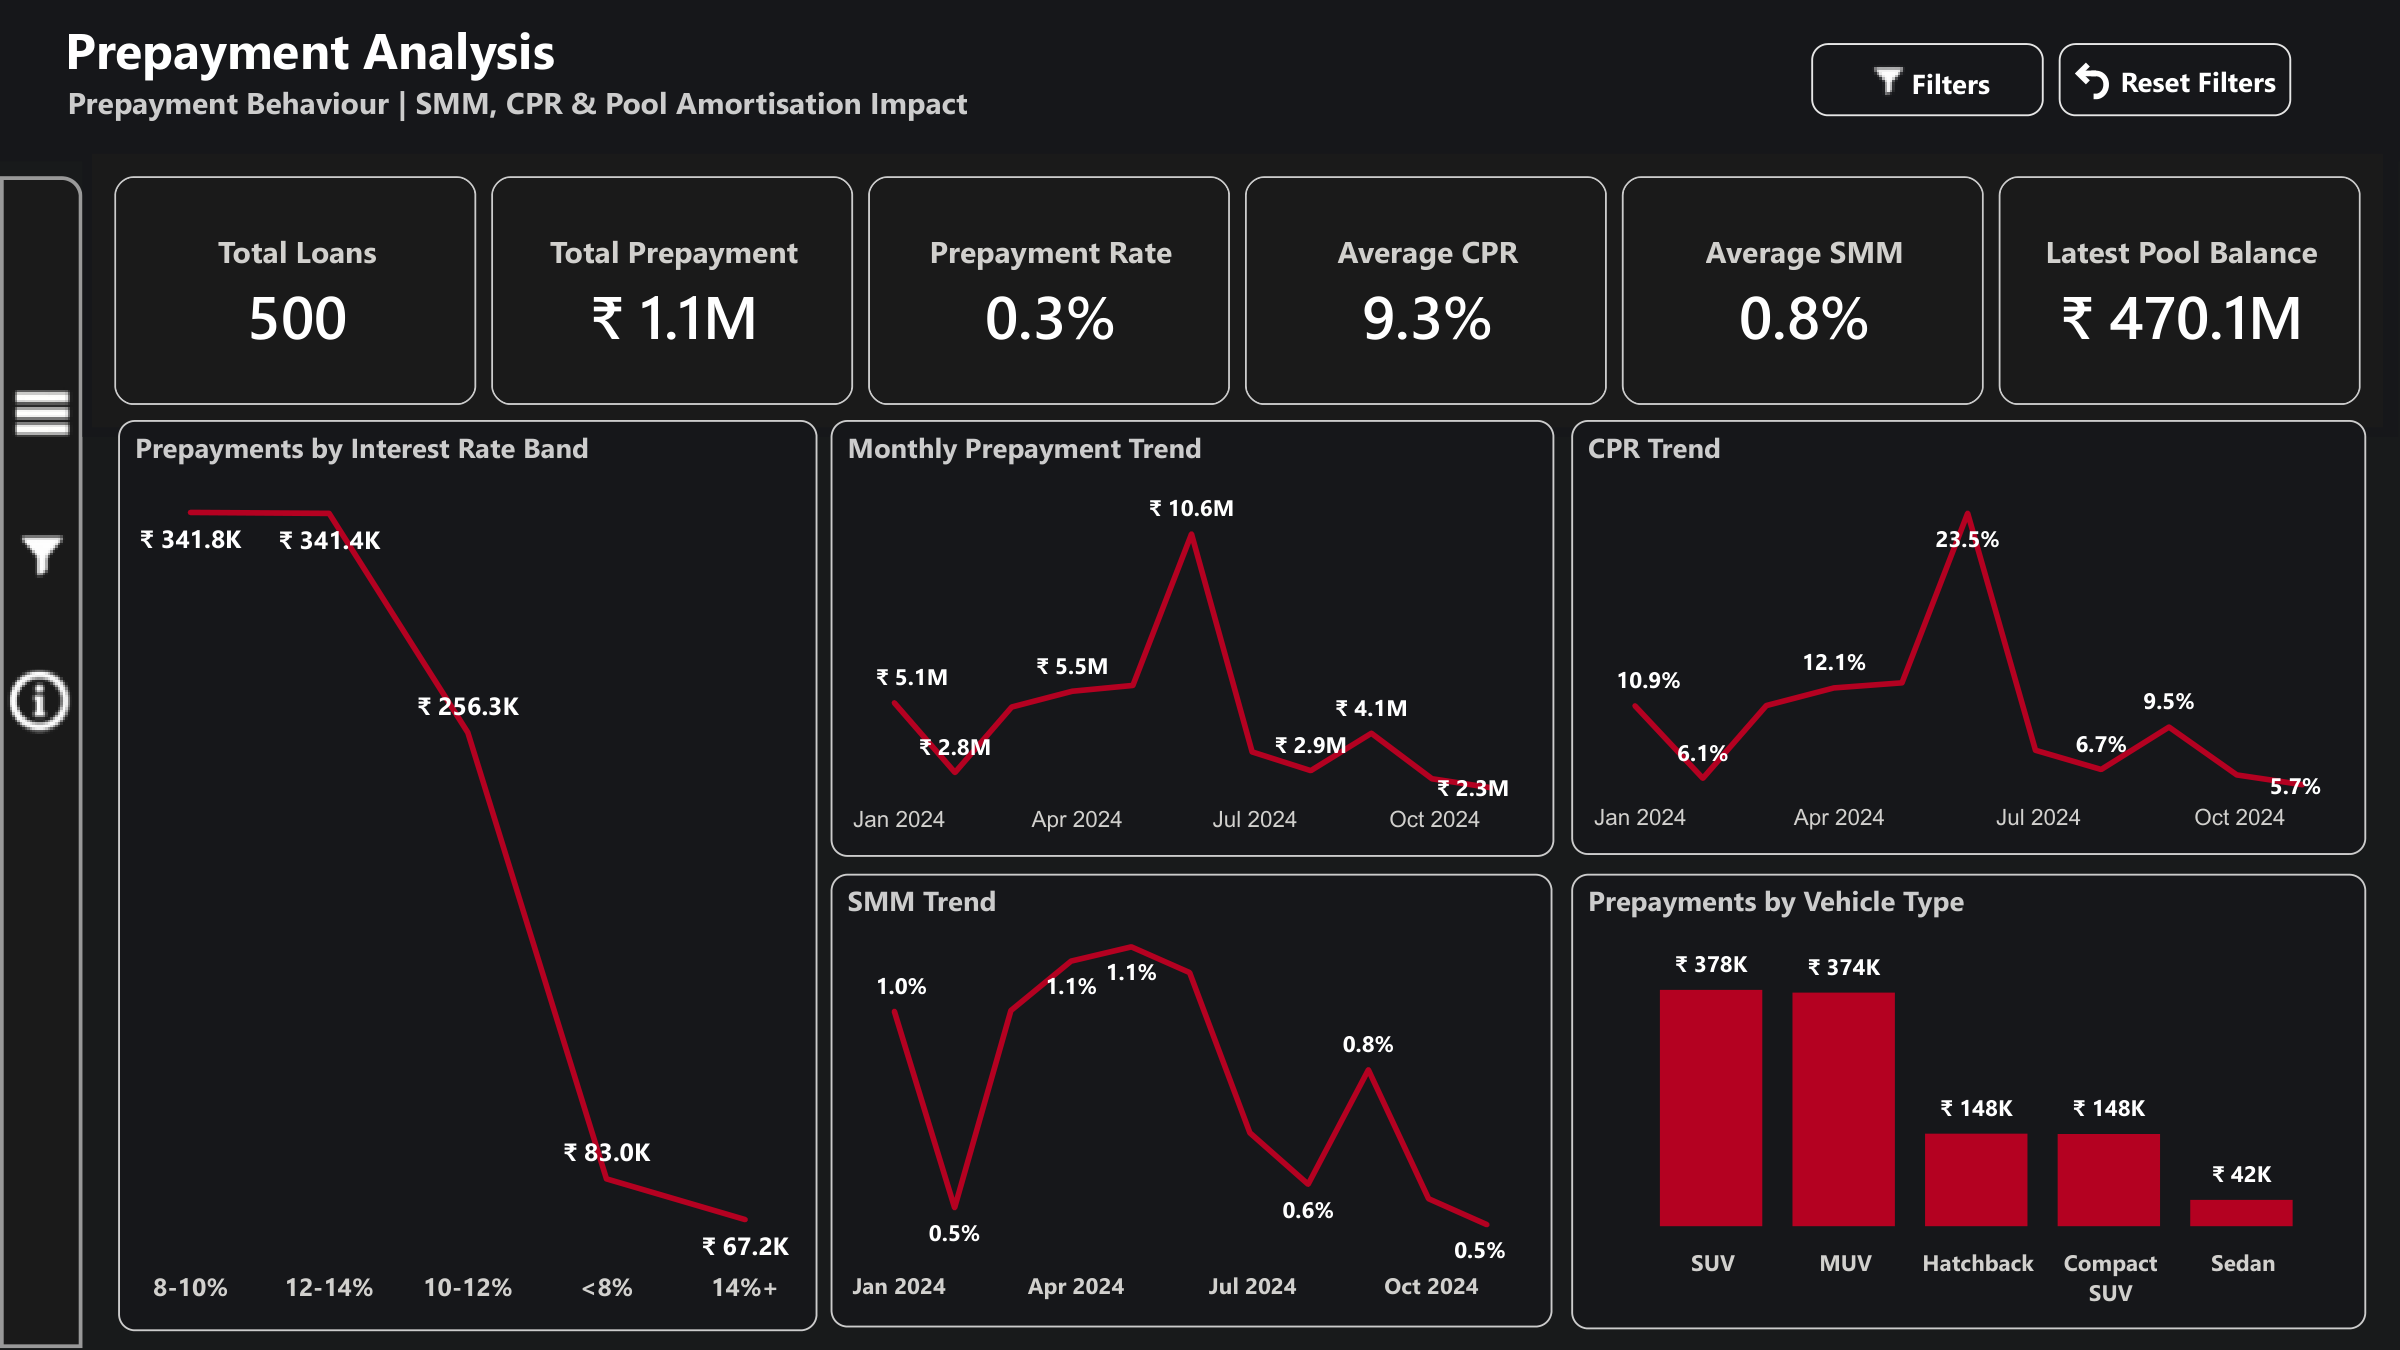

This screenshot's page, from the dashboard's own definition file:
{"tool":"powerbi","page":{"name":"Prepayment Analysis","canvas":[1280,720],"ordinal":5},"visuals":[{"type":"group","id":"g1","title":"default page ","box":[0,0,1280,86.5],"z":0},{"type":"textbox","title":"Executive Overview","box":[0,0,1280,86.5],"z":0,"group":"g1"},{"type":"cardVisual","fields":{"Data":["Loan_Master.Total Loans","Loan_Master.Total Prepayment","Loan_Master.Prepayment Rate","Monthly_Loss.Average CPR","Monthly_Loss.Average SMM","Monthly_Loss.Latest Pool Balance"]},"box":[44.5,77.1,1235.5,155.8],"z":0,"group":"g3"},{"type":"shape","box":[0,94.1,44.3,625],"z":0,"group":"g2"},{"type":"shape","box":[350.8,142.2,576.7,429.8],"z":0,"group":"g4"},{"type":"actionButton","box":[1097.5,23.1,124.4,39],"z":1000,"group":"g1"},{"type":"textbox","box":[350,172.9,577.3,398.9],"z":1000,"group":"g4"},{"type":"actionButton","box":[0,181.3,44.5,77.6],"z":1000,"group":"g2"},{"type":"lineChart","title":"CPR Trend","fields":{"Category":["Monthly_Loss.ReportingDate"],"Y":["Sum(Monthly_Loss.CPR_Annualised)"]},"box":[838,224.4,424.3,231.4],"z":1000,"group":"g3"},{"type":"actionButton","box":[965.9,23.1,124.4,39],"z":2000,"group":"g1"},{"type":"shape","box":[350,120,579.1,52.1],"z":2000,"group":"g4"},{"type":"lineChart","title":"Monthly Prepayment Trend","fields":{"Category":["Monthly_Loss.ReportingDate"],"Y":["Monthly_Loss.Monthly Prepayments"]},"box":[443.8,224.4,385.7,232.9],"z":2000,"group":"g3"},{"type":"actionButton","box":[0,257.9,44.8,76.9],"z":2000,"group":"g2"},{"type":"group","id":"g2","title":"navigation bar","box":[0,94.1,44.8,625],"z":3000},{"type":"actionButton","box":[887.2,120,42.8,53.8],"z":3000,"group":"g4"},{"type":"lineChart","title":"Prepayments by Interest Rate Band","fields":{"Category":["Loan_Master.Interest Rate Band"],"Y":["Loan_Master.Total Prepayment"]},"box":[63.8,224.4,372.9,485.7],"z":3000,"group":"g3"},{"type":"actionButton","box":[0,334.9,44.8,78.3],"z":3000,"group":"g2"},{"type":"textbox","box":[398.6,120,406.2,49.7],"z":4000,"group":"g4"},{"type":"lineChart","title":"SMM Trend","fields":{"Category":["Monthly_Loss.ReportingDate"],"Y":["Monthly_Loss.Average SMM"]},"box":[443.1,465.7,385.7,242.9],"z":4000,"group":"g3"},{"type":"group","id":"g3","title":"charts unfolded","box":[44.5,77.1,1235.5,633],"z":5000},{"type":"actionButton","box":[377.2,125.9,27.2,32],"z":5000,"group":"g4"},{"type":"clusteredColumnChart","title":"Prepayments by Vehicle Type","fields":{"Y":["Loan_Master.Total Prepayment"],"Category":["Loan_Master.VehicleType"]},"box":[838.5,466.3,424.3,242.9],"z":5000,"group":"g3"},{"type":"group","id":"g4","title":"info","box":[350,120,580,452],"z":7000}]}

Visuals, with their boxes on the page's 1280x720 design canvas (x1, y1, x2, y2). These are canvas units, not pixel positions in the 2400x1350 screenshot, which may show the page scaled, cropped or inside an application window:
"default page " group: box(0, 0, 1280, 86)
"Executive Overview" textbox: box(0, 0, 1280, 86)
cardVisual - Loan_Master.Total Loans x Loan_Master.Total Prepayment: box(44, 77, 1280, 233)
shape: box(0, 94, 44, 719)
shape: box(351, 142, 928, 572)
actionButton: box(1098, 23, 1222, 62)
textbox: box(350, 173, 927, 572)
actionButton: box(0, 181, 44, 259)
"CPR Trend" lineChart: box(838, 224, 1262, 456)
actionButton: box(966, 23, 1090, 62)
shape: box(350, 120, 929, 172)
"Monthly Prepayment Trend" lineChart: box(444, 224, 830, 457)
actionButton: box(0, 258, 45, 335)
"navigation bar" group: box(0, 94, 45, 719)
actionButton: box(887, 120, 930, 174)
"Prepayments by Interest Rate Band" lineChart: box(64, 224, 437, 710)
actionButton: box(0, 335, 45, 413)
textbox: box(399, 120, 805, 170)
"SMM Trend" lineChart: box(443, 466, 829, 709)
"charts unfolded" group: box(44, 77, 1280, 710)
actionButton: box(377, 126, 404, 158)
"Prepayments by Vehicle Type" clusteredColumnChart: box(838, 466, 1263, 709)
"info" group: box(350, 120, 930, 572)
